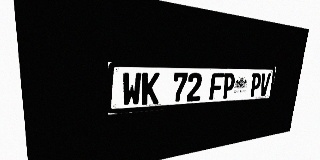2: (186, 73, 202, 102)
7: (171, 73, 188, 103)
F: (209, 73, 224, 100)
K: (141, 72, 160, 105)
P: (221, 73, 236, 99), (249, 73, 262, 97)
V: (259, 73, 271, 96)
W: (122, 72, 142, 106)
